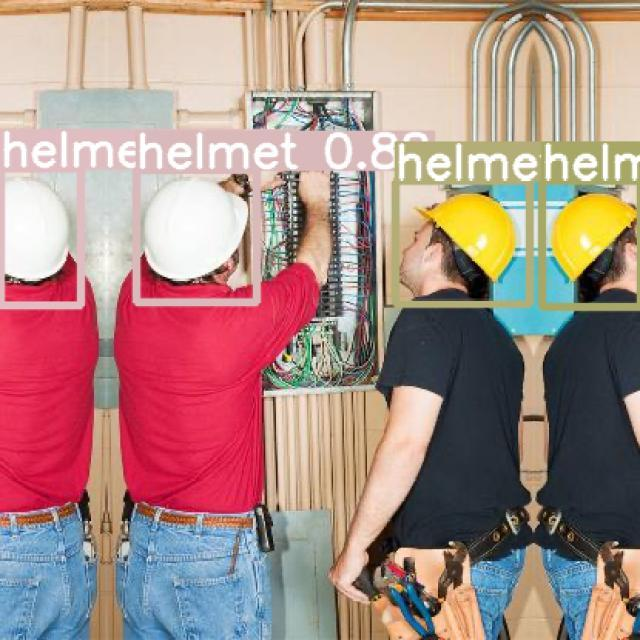Helmet: (141, 176, 249, 282), (413, 191, 516, 283), (550, 191, 636, 283), (3, 176, 70, 283)
